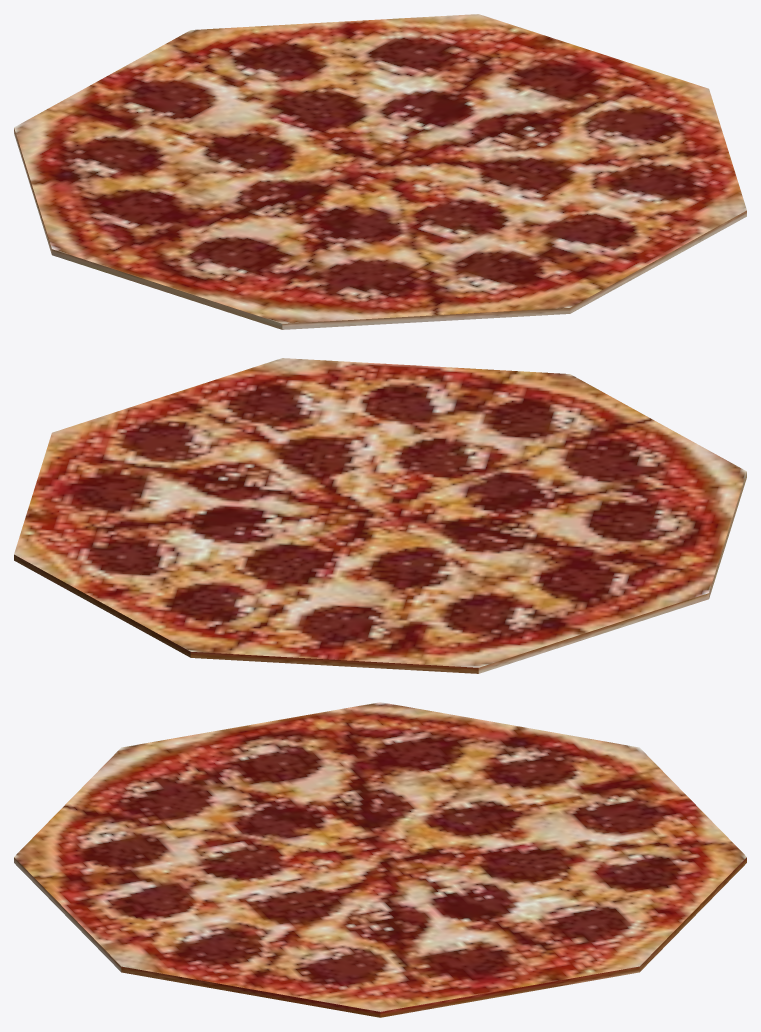
File: low_poly_pizza.glb
3 views of the same model, one above another, from view 1: azimuth 30°, elevation 25°; view 2: azimuth 150°, elevation 25°; view 3: azimuth 270°, elevation 25° (orthographic). The views are drawn at different scales.
Visible parts, largest first — view 1: Cylinder; view 2: Cylinder; view 3: Cylinder.
Part boxes in pixels (box(x1,y1,x2,y2)): Cylinder: box(14, 14, 746, 329); Cylinder: box(14, 358, 746, 673); Cylinder: box(14, 702, 746, 1017).
Size of the model in its own units: 0.3 by 0.00267 by 0.3.
Materials: 1 (1 with a texture image).
